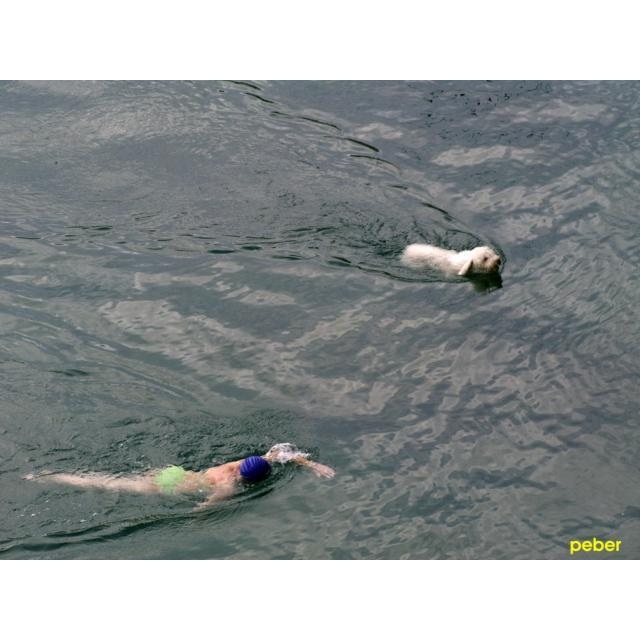human: (46, 443, 335, 519)
